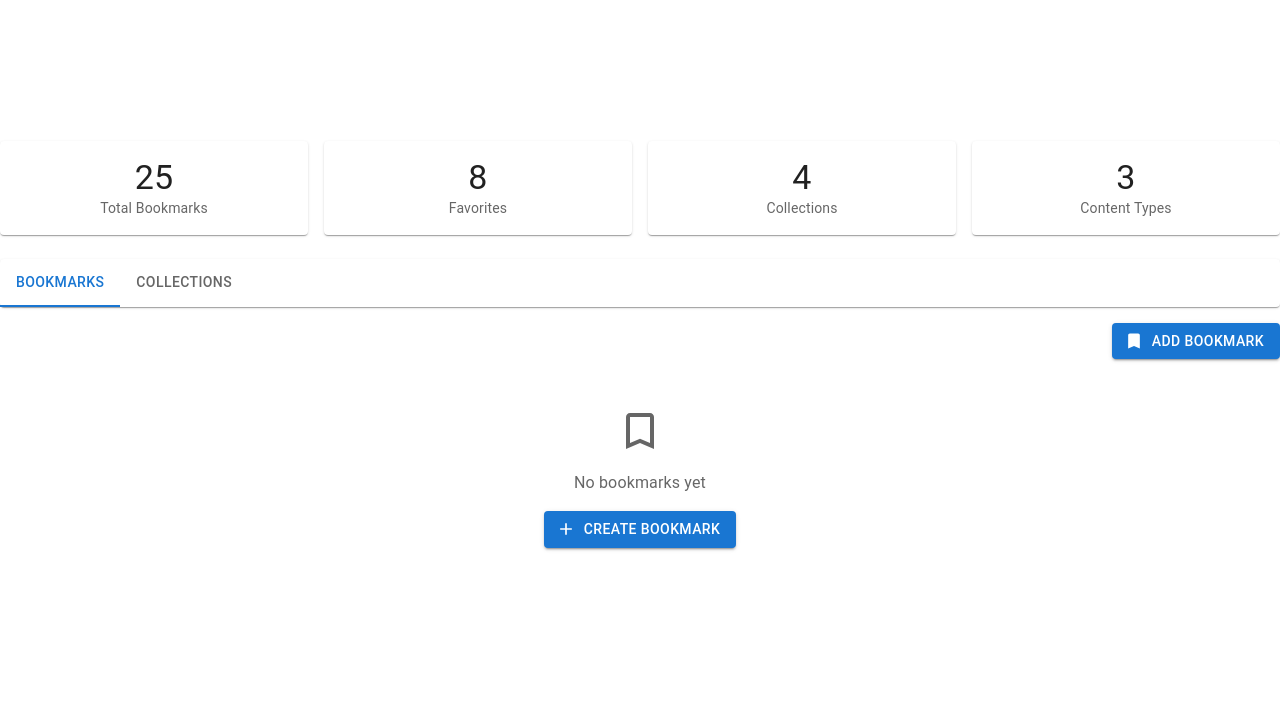
Test: BookmarkManager Component › Create Bookmark › should open bookmark dialog when Add Bookmark clicked
Click the button "Add Bookmark". click: (1196, 341)
box: x1=1112 y1=322 x2=1279 y2=359
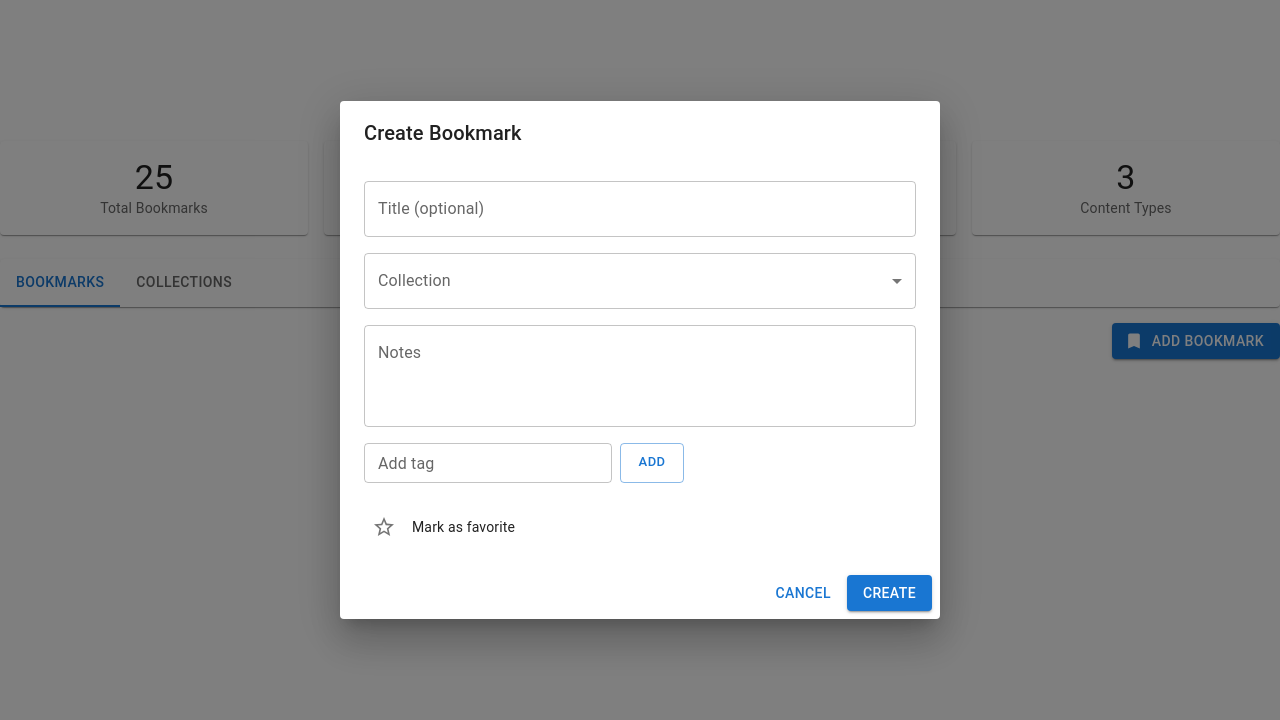
Result: the dialog is shown at x1=340 y1=101 x2=940 y2=619
Result: the field labelled "Title (optional)" is shown at x1=364 y1=181 x2=916 y2=237
